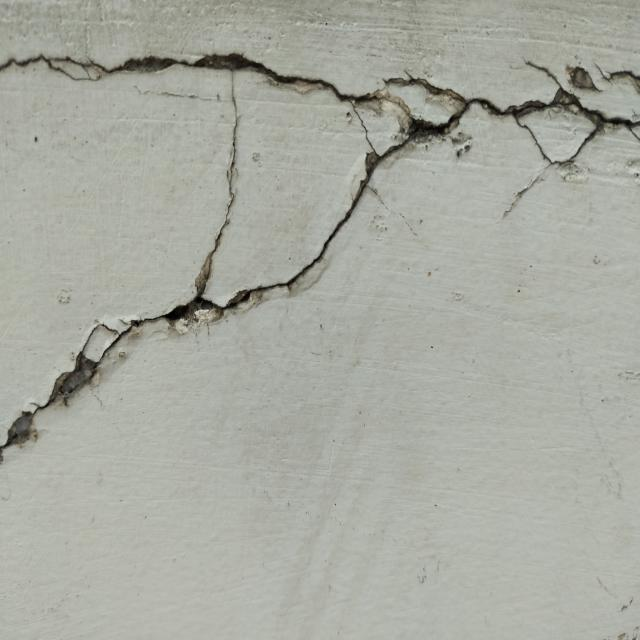branched cracks: (0, 53, 639, 459)
